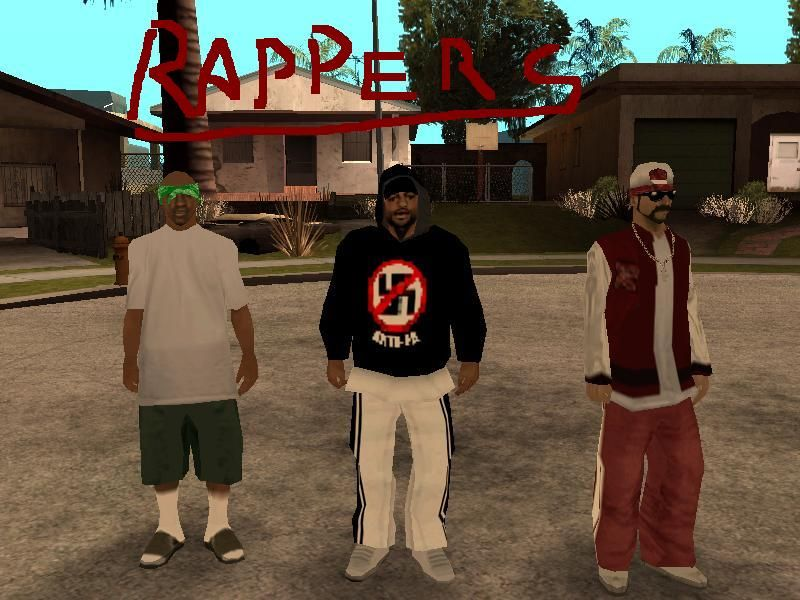person: (330, 172, 470, 590), (584, 164, 715, 593), (126, 178, 253, 569)
